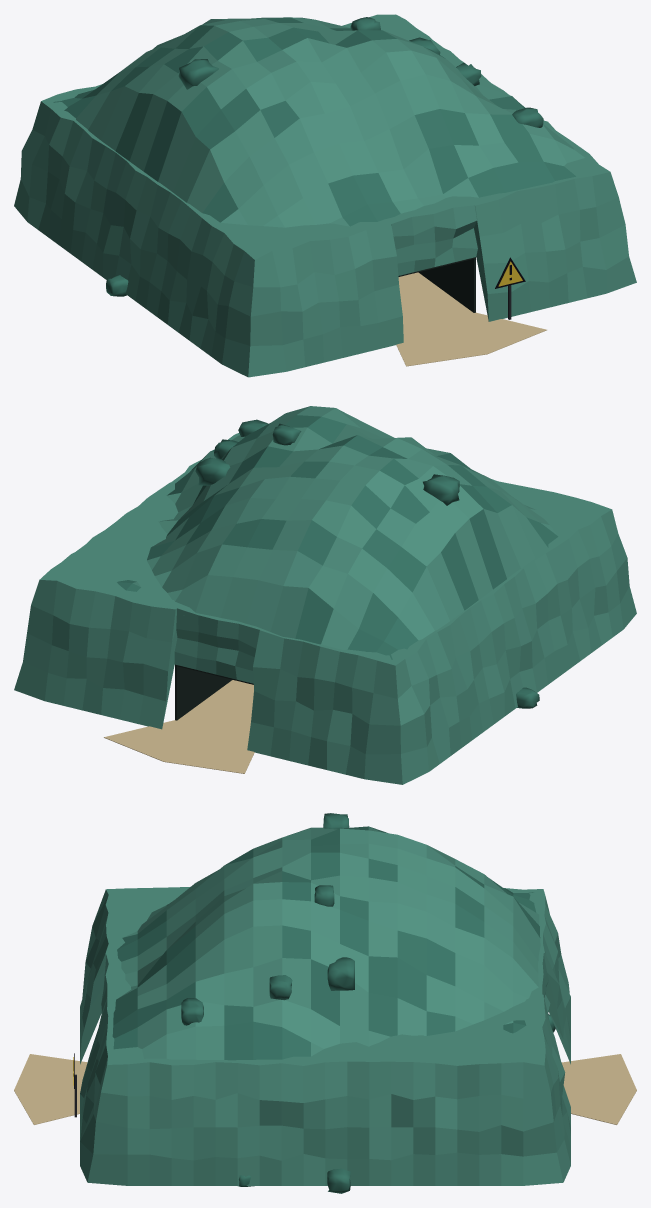
File: tf-cave.glb
3 views of the same model, one above another, from view 1: azimuth 30°, elevation 25°; view 2: azimuth 150°, elevation 25°; view 3: azimuth 270°, elevation 25° (orthographic).
Visible parts, largest first — view 1: tf-cave; view 2: tf-cave; view 3: tf-cave.
Part boxes in pixels (x1,y1,x2,y2): tf-cave: (14, 14, 636, 377); tf-cave: (14, 406, 636, 784); tf-cave: (14, 813, 636, 1193).
Size of the model in its own units: 25.2 by 12.33 by 31.2.
